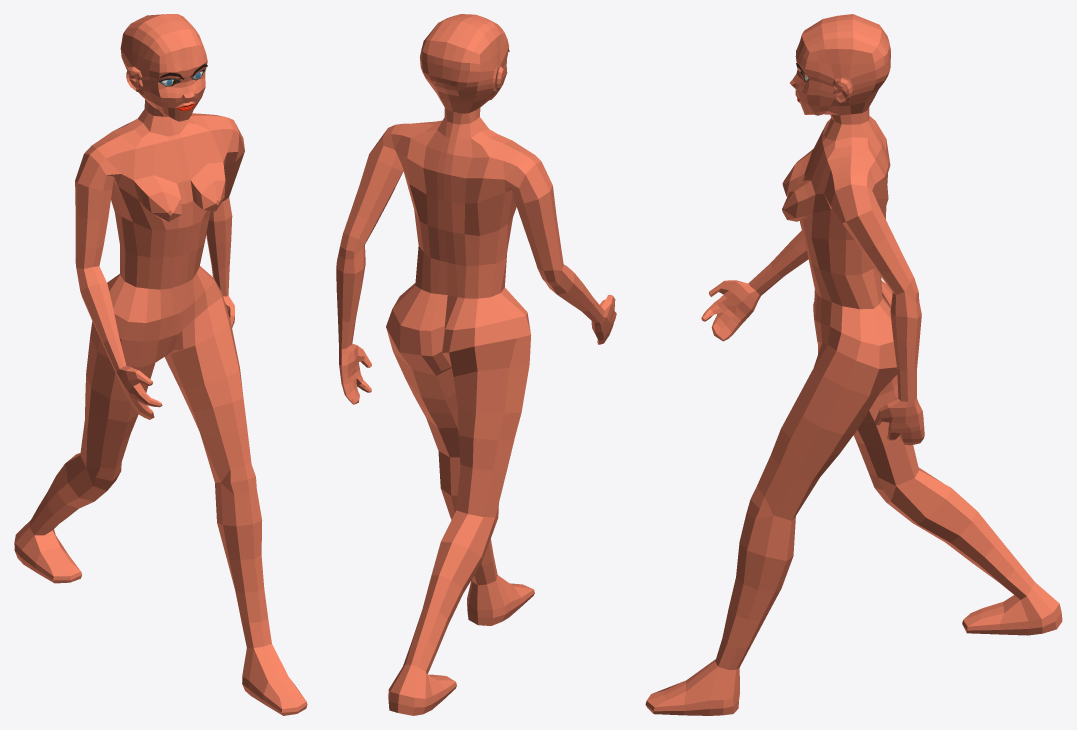
Rendered from Female_Walk.fbx.
The picture shows the model from 3 angles, left to right: view 1: azimuth 30°, elevation 25°; view 2: azimuth 150°, elevation 25°; view 3: azimuth 270°, elevation 25°; orthographic projection. The views are drawn at different scales.
Visible parts, largest first — view 1: Female_Walk; view 2: Female_Walk; view 3: Female_Walk.
Part boxes in pixels (box(x1,y1,x2,y2)): Female_Walk: box(14, 14, 307, 715); Female_Walk: box(336, 14, 616, 715); Female_Walk: box(645, 14, 1062, 715).
Size of the model in its own units: 0.2788 by 0.893 by 0.5039.
